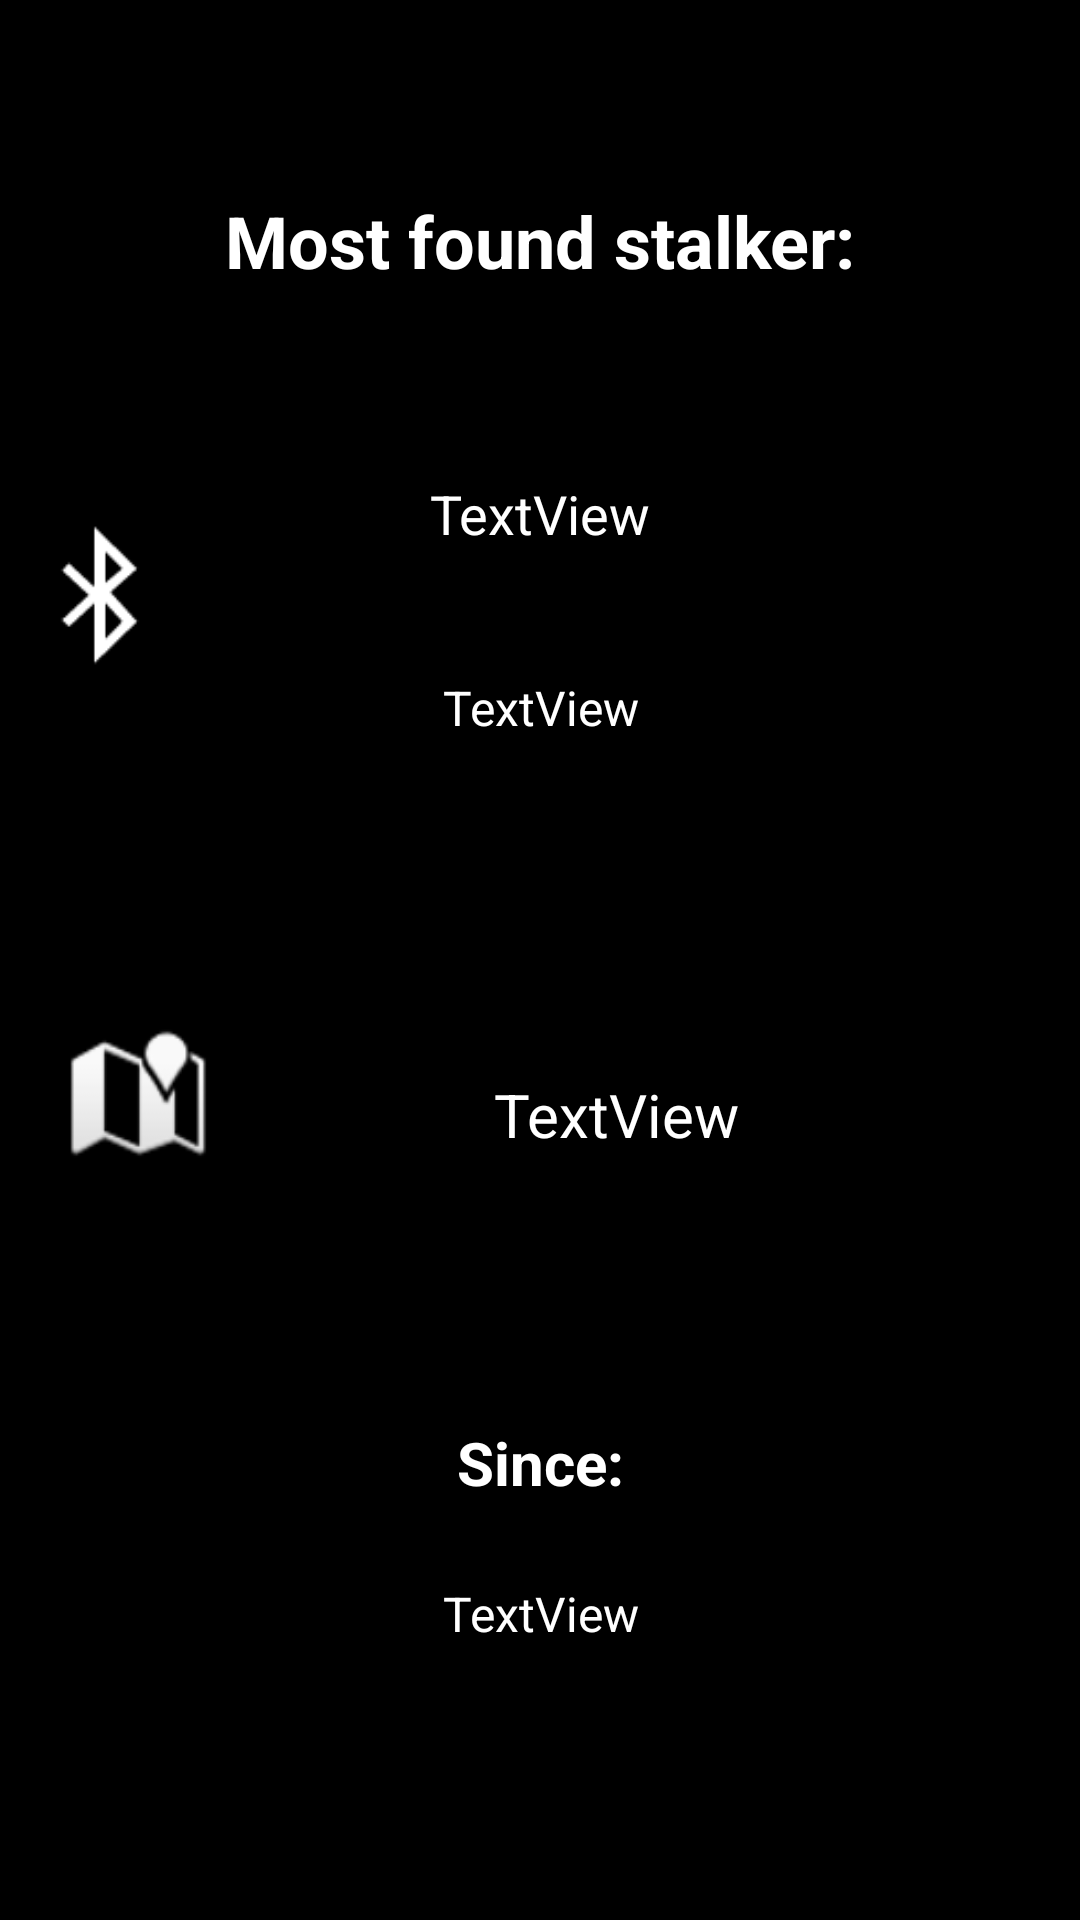

Point at icon controls on the screen. Image size 1080*1920, points as (x=x, y=y).
map: (x=138, y=1093)
